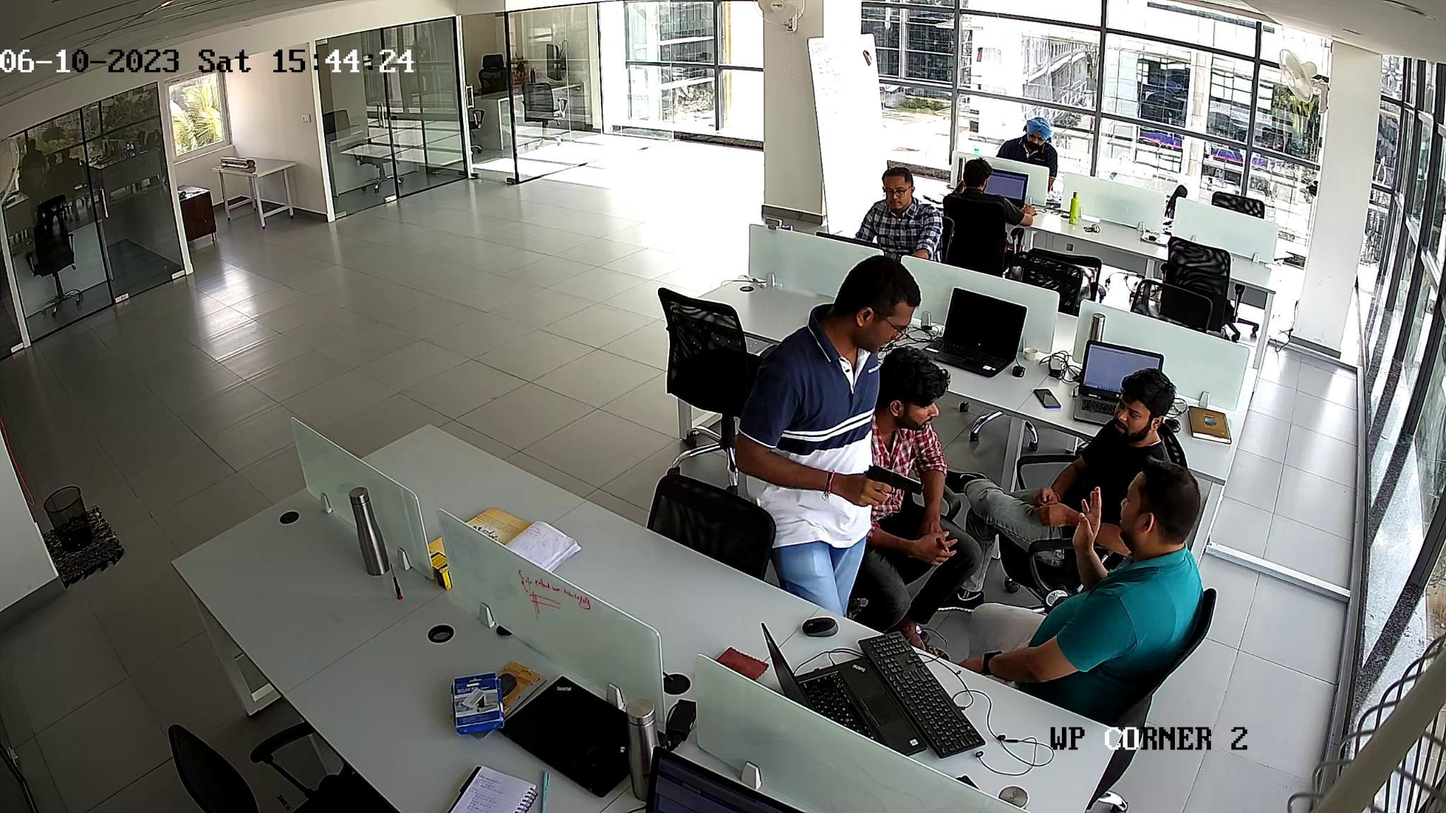gun: (865, 464, 925, 504)
